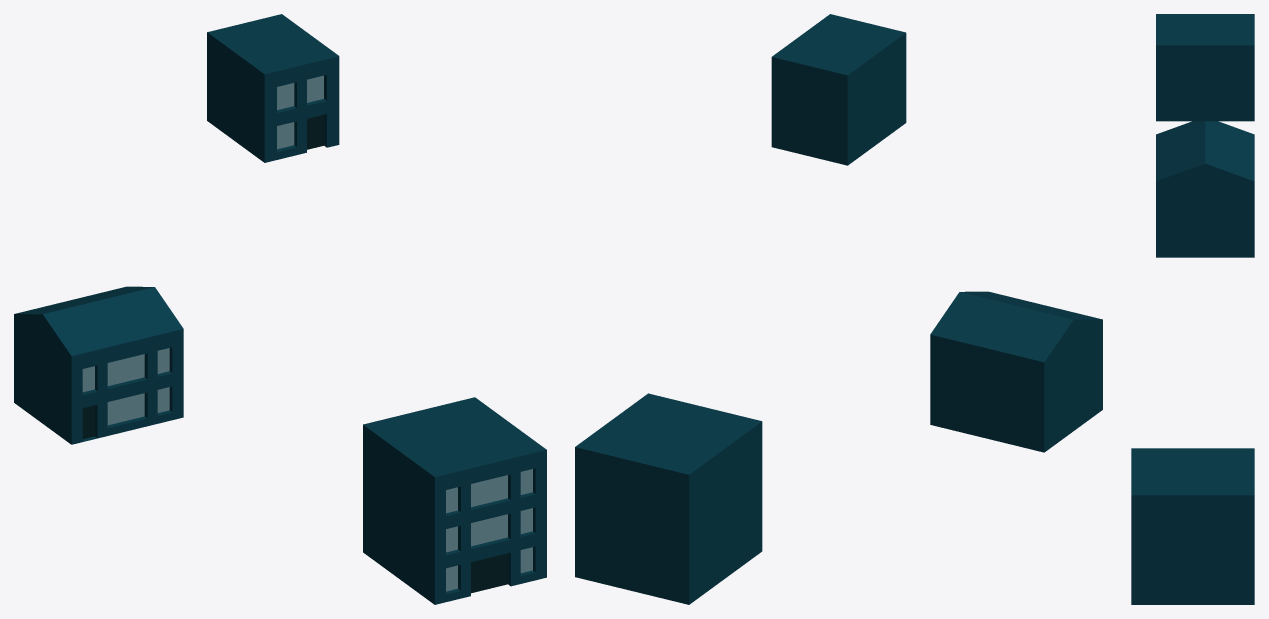
Rendered from BinaGrup17.gltf.
3 views of the same model, side by side, from view 1: azimuth 30°, elevation 25°; view 2: azimuth 150°, elevation 25°; view 3: azimuth 270°, elevation 25° (orthographic). The views are drawn at different scales.
Visible parts, largest first — view 1: Building_047.011, Building_032.011, Building_038.011, Building_047.012, Building_032.012, Building_038.012, Building_047.013; view 2: Building_047.011, Building_032.011, Building_038.011; view 3: Building_047.011, Building_032.011, Building_038.011.
Boxes of the visible parts, box(x1,y1,x2,y2) form: Building_047.011: box(363, 397, 546, 604); Building_032.011: box(14, 286, 183, 444); Building_038.011: box(207, 14, 339, 162); Building_047.012: box(446, 469, 532, 591); Building_032.012: box(82, 348, 169, 425); Building_038.012: box(277, 75, 323, 149); Building_047.013: box(471, 553, 507, 593); Building_047.011: box(575, 393, 762, 604); Building_032.011: box(930, 291, 1102, 452); Building_038.011: box(771, 14, 906, 165); Building_047.011: box(1131, 448, 1254, 604); Building_032.011: box(1156, 121, 1254, 257); Building_038.011: box(1156, 14, 1254, 121).
Bounding box in the file's own units: 0.2011 × 0.2326 × 0.0543.
